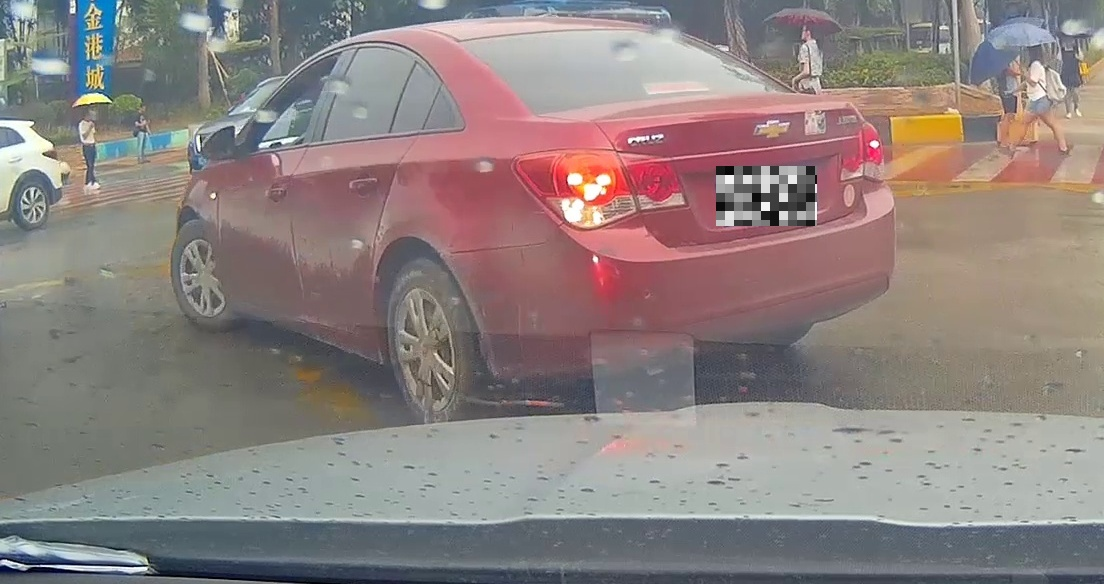L_light: (512, 145, 690, 230)
R_light: (840, 120, 887, 184)
T_light: (643, 81, 712, 96)
day-left: (448, 15, 898, 423)
plate_1: (716, 166, 817, 226)
